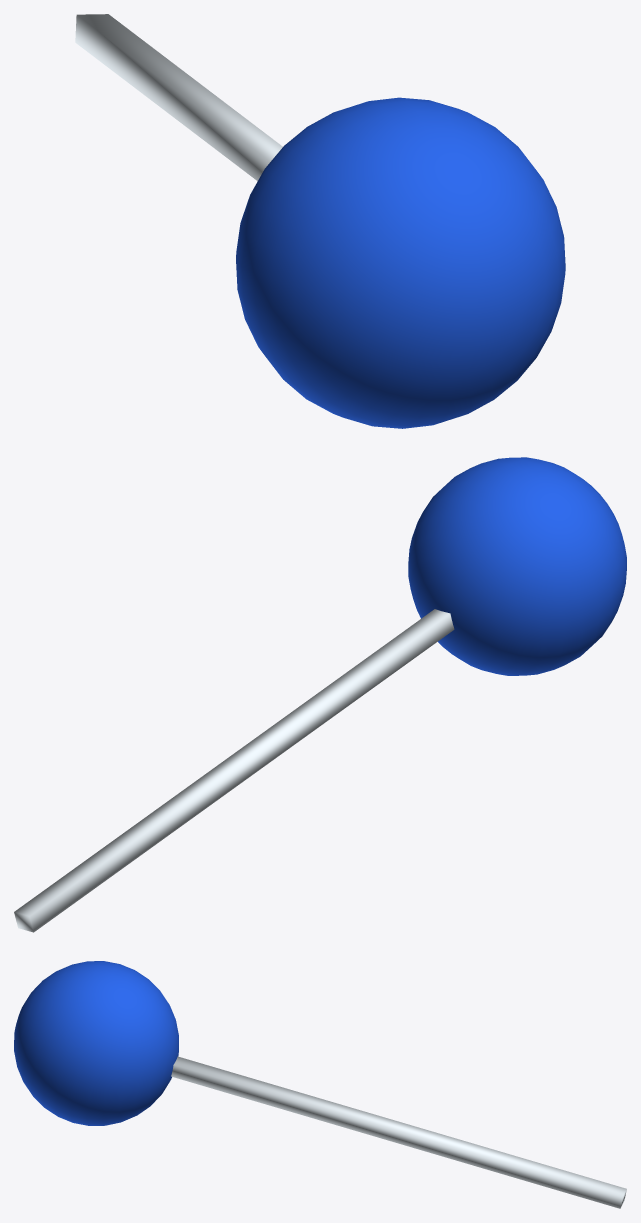
File: pin-one.glb
3 views of the same model, one above another, from view 1: azimuth 30°, elevation 25°; view 2: azimuth 150°, elevation 25°; view 3: azimuth 270°, elevation 25° (orthographic). The views are drawn at different scales.
Visible parts, largest first — view 1: pin handle; view 2: pin handle; view 3: pin handle.
Boxes of the visible parts, x1,y1,x2,y2 form: pin handle: (75,14,565,428); pin handle: (14,457,626,932); pin handle: (14,961,626,1208).
Bounding box in the file's own units: 0.0633 × 0.059 × 0.1782.
